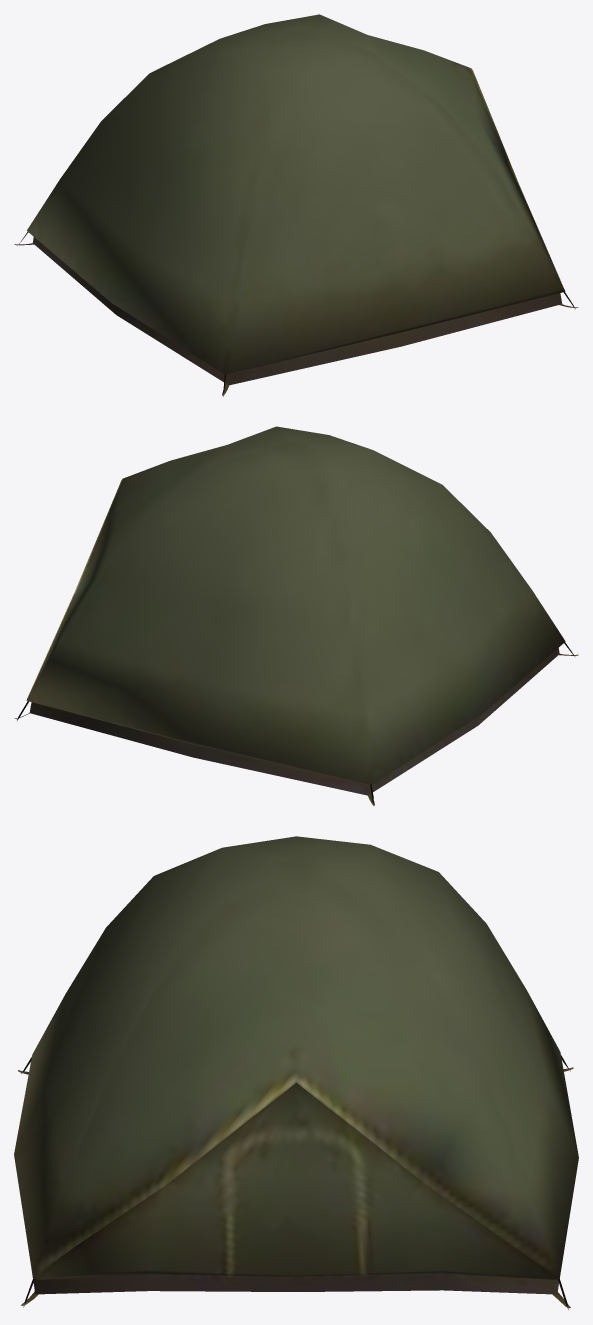
File: tent-dome.lod1.glb
3 renders of one model, top to bottom at view 1: azimuth 30°, elevation 25°; view 2: azimuth 150°, elevation 25°; view 3: azimuth 270°, elevation 25°, orthographic. The views are drawn at different scales.
Parts seen in each view (by area): view 1: defaultMaterial; view 2: defaultMaterial; view 3: defaultMaterial.
Boxes of the visible parts, x1,y1,x2,y2 form: defaultMaterial: (14, 14, 578, 396); defaultMaterial: (14, 426, 578, 805); defaultMaterial: (14, 836, 578, 1309).
Size of the model in its own units: 2.4 by 1.53 by 2.38.
1 material, 1 textured.
